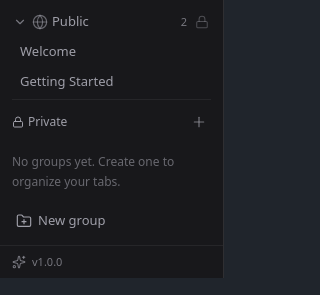
Scenario: Sidebar › collapses and expands public notes via the chevron
Expected: the button "Welcome" is shown, [8, 38, 215, 66]
Click the element titled "Collapse public group": point(20, 22) [13, 15, 27, 29]
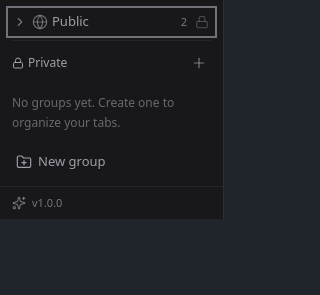
Now the button "Welcome" is gone
Click the element titled "Expand public group": point(20, 22) [13, 15, 27, 29]
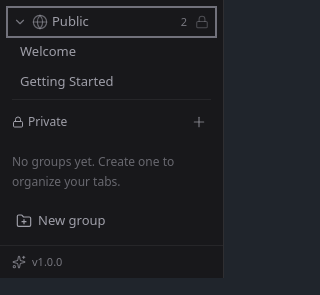
Now the button "Welcome" is shown, box [8, 38, 215, 66]
